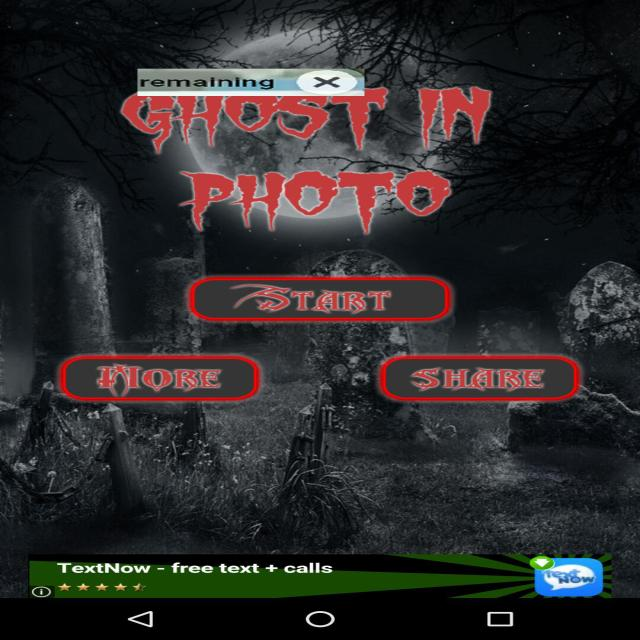misdirection: (138, 69, 364, 96)
